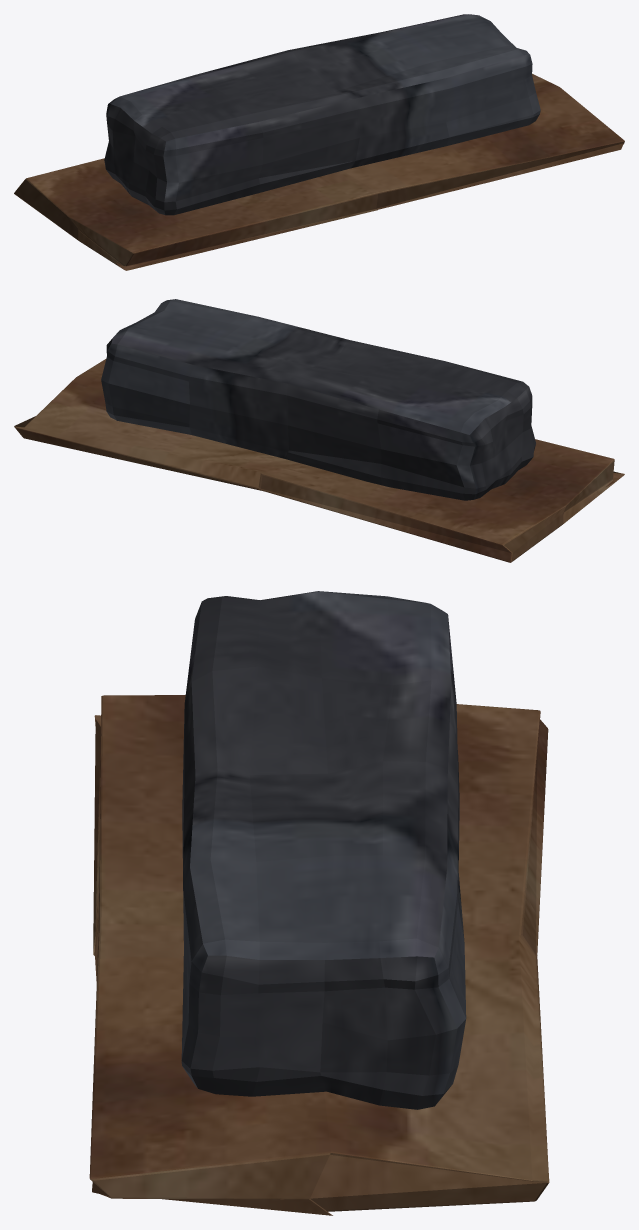
File: whetstone.glb
3 renders of one model, top to bottom at view 1: azimuth 30°, elevation 25°; view 2: azimuth 150°, elevation 25°; view 3: azimuth 270°, elevation 25°, orthographic. The views are drawn at different scales.
Visible parts, largest first — view 1: model; view 2: model; view 3: model.
Boxes of the visible parts, left/top/right/bottom form: model: left=14, top=14, right=624, bottom=270; model: left=14, top=299, right=624, bottom=562; model: left=89, top=591, right=549, bottom=1215.
Size of the model in its own units: 0.2664 by 0.0565 by 0.1061.
Materials: 2 (2 with a texture image).
